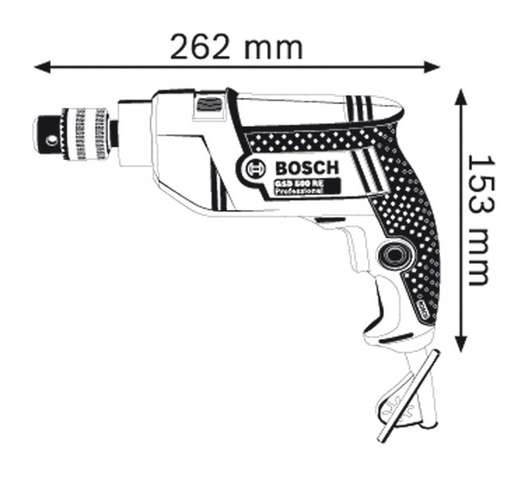Bosch: (273, 159, 343, 178)
